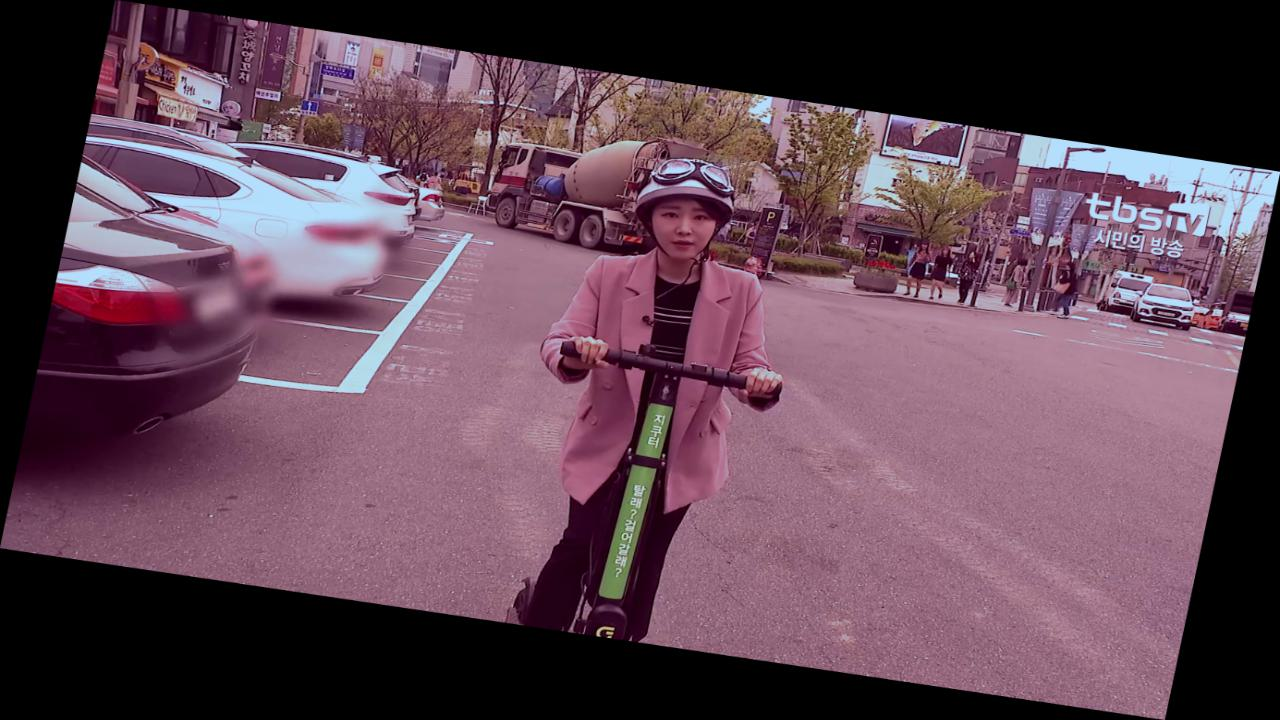helmet: (483, 142, 829, 656)
